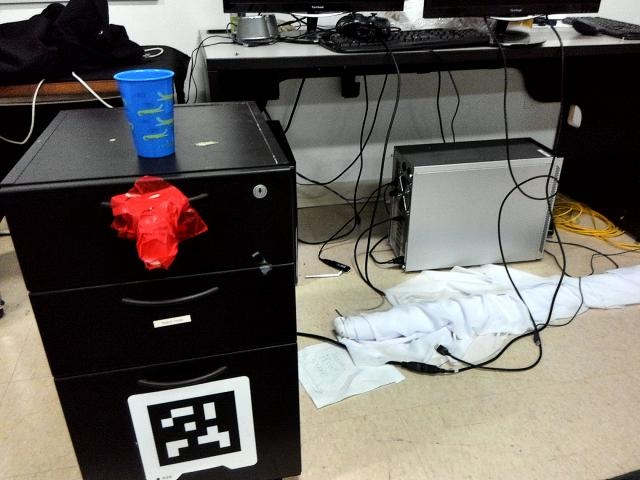water_cup: (114, 64, 177, 161)
